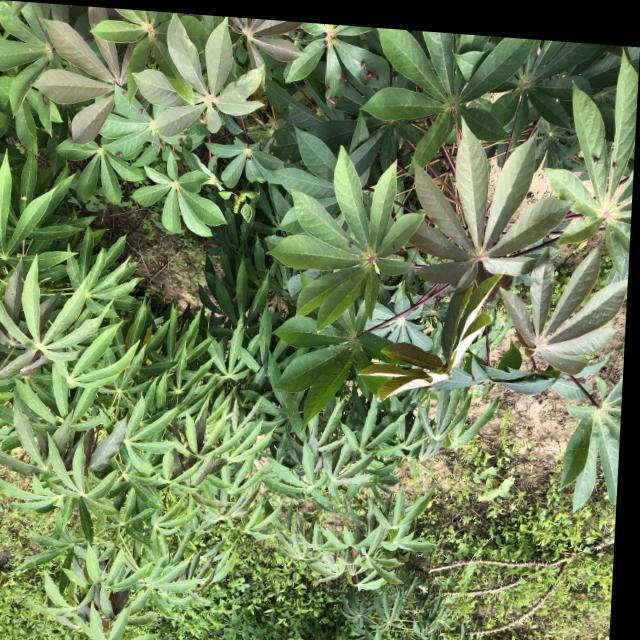Mosca: (345, 51, 385, 87), (129, 98, 146, 121), (113, 139, 125, 161)
